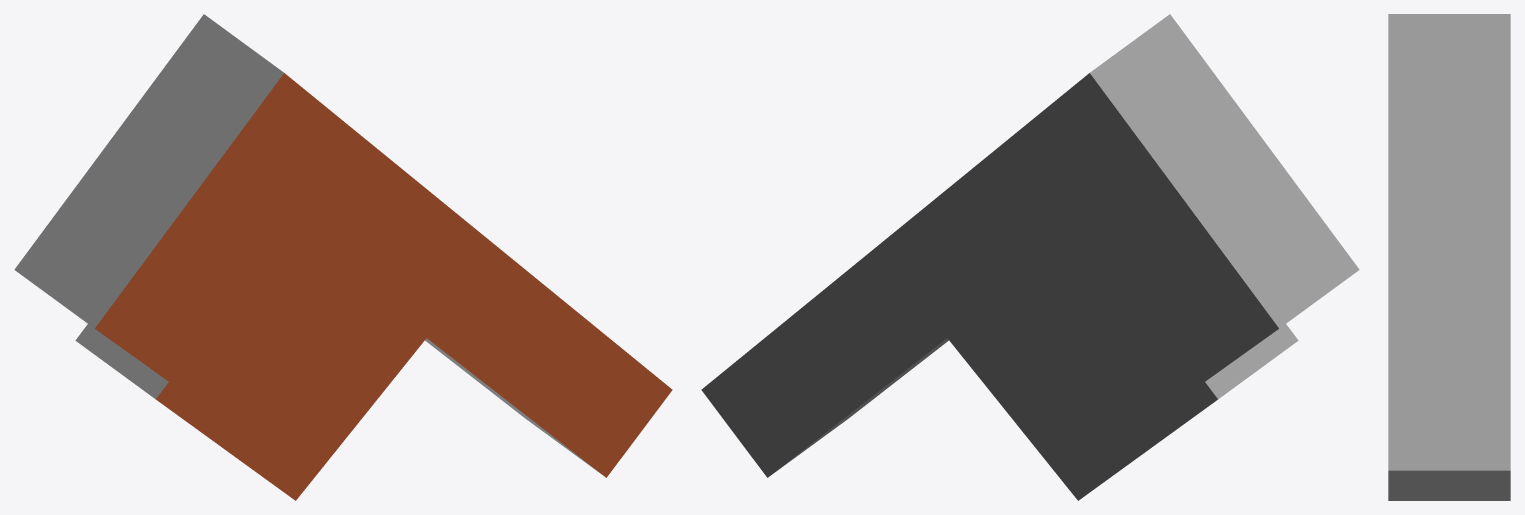
Rendered from construction_4267_assumed_A_Casa_h6m.obj.
3 renders of one model, left to right at view 1: azimuth 30°, elevation 25°; view 2: azimuth 150°, elevation 25°; view 3: azimuth 270°, elevation 25°, orthographic. The views are drawn at different scales.
Parts seen in each view (by area): view 1: construction_4267_assumed_A_Casa; view 2: construction_4267_assumed_A_Casa; view 3: construction_4267_assumed_A_Casa.
Part boxes in pixels (<box>): construction_4267_assumed_A_Casa: <box>14,14,672,500</box>; construction_4267_assumed_A_Casa: <box>701,14,1359,500</box>; construction_4267_assumed_A_Casa: <box>1388,14,1510,500</box>.
Bounding box in the file's own units: 24.9 × 19.91 × 6.
